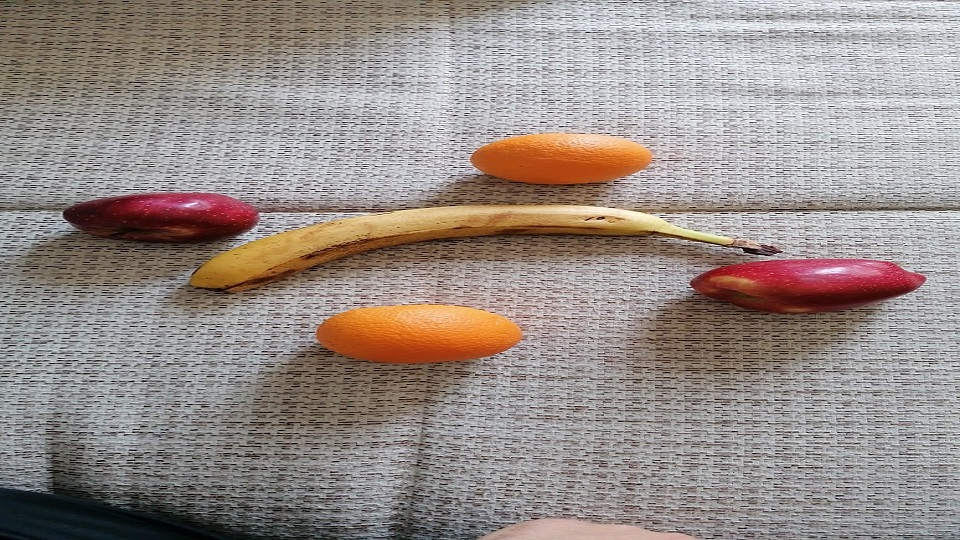elma: (690, 257, 928, 316), (62, 191, 262, 245)
muz: (189, 203, 733, 297)
portakal: (316, 303, 523, 364), (470, 133, 655, 186)
